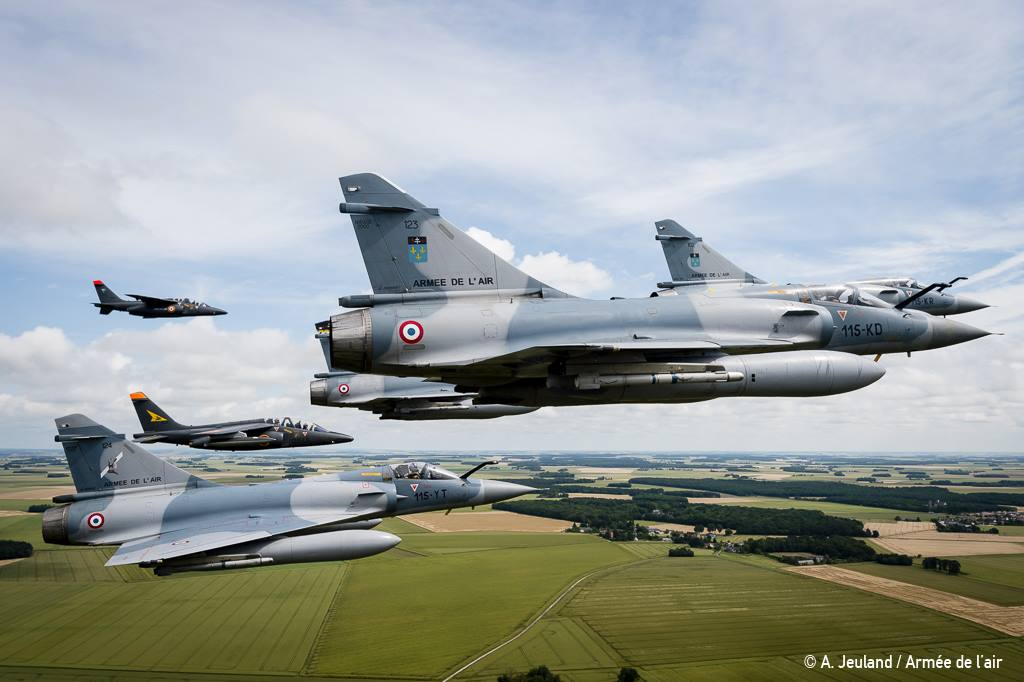Aeronef_militaire: (309, 161, 1014, 422), (26, 411, 555, 580), (638, 212, 1000, 334), (301, 318, 551, 426), (109, 387, 362, 464), (83, 269, 241, 329)
